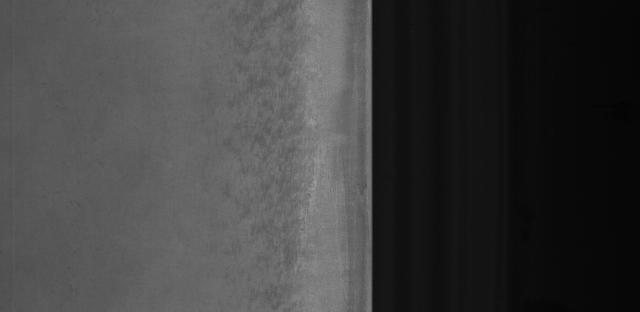silk_spot: (216, 20, 312, 270)
